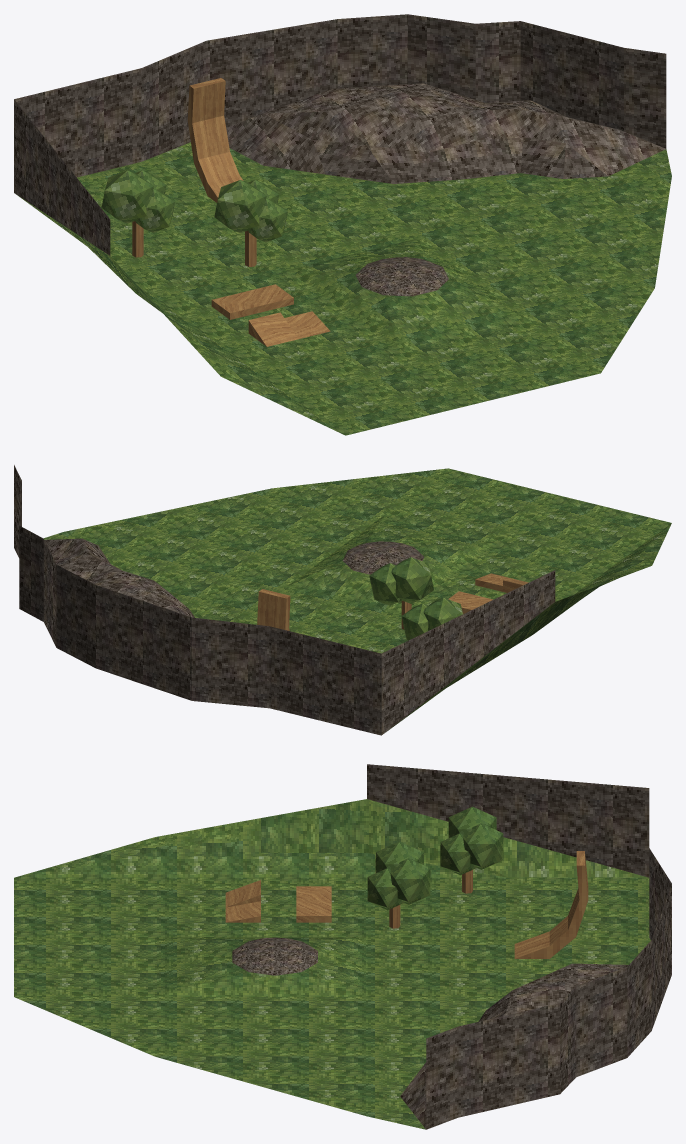
File: proto_planet2.gltf
3 views of the same model, one above another, from view 1: azimuth 30°, elevation 25°; view 2: azimuth 150°, elevation 25°; view 3: azimuth 270°, elevation 25° (orthographic). The views are drawn at different scales.
Parts seen in each view (by area): view 1: grass; view 2: grass; view 3: grass.
Part boxes in pixels (x1,y1,x2,y2): grass: (14,14,671,435); grass: (14,465,671,735); grass: (14,764,671,1129).
Size of the model in its own units: 68.98 by 11.22 by 69.92.
3 materials, 3 textured.
